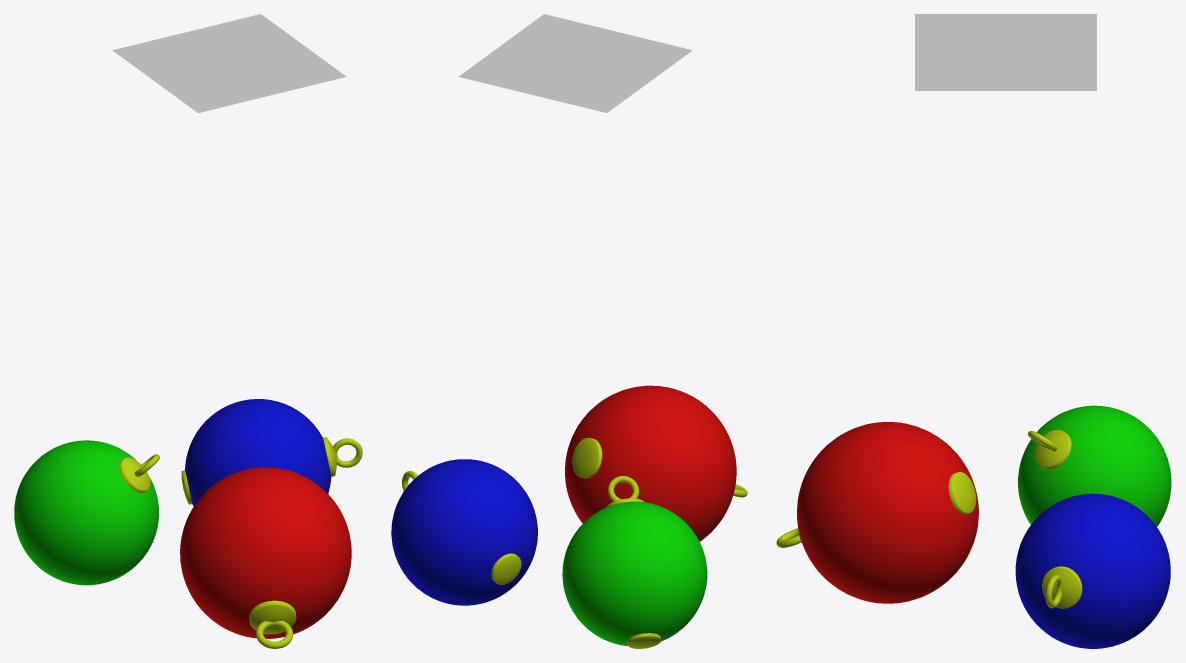
Rendered from escena.obj.
3 views of the same model, side by side, from view 1: azimuth 30°, elevation 25°; view 2: azimuth 150°, elevation 25°; view 3: azimuth 270°, elevation 25° (orthographic). The views are drawn at different scales.
Parts seen in each view (by area): view 1: Sphere3, Sphere2, Light, Sphere1; view 2: Sphere3, Sphere2, Sphere1, Light; view 3: Sphere3, Sphere1, Light, Sphere2.
Part boxes in pixels (x1,y1,x2,y2): Sphere3: (180, 467, 351, 648); Sphere2: (14, 440, 159, 585); Light: (112, 14, 346, 112); Sphere1: (181, 399, 362, 506); Sphere3: (565, 385, 747, 541); Sphere2: (562, 476, 707, 648); Sphere1: (391, 459, 537, 605); Light: (458, 14, 692, 112); Sphere3: (776, 422, 978, 603); Sphere1: (1015, 493, 1170, 648); Light: (915, 14, 1096, 90); Sphere2: (1018, 405, 1171, 526).
Size of what is drawn, in the model's own units: 4.26 by 6.71 by 4.34.
